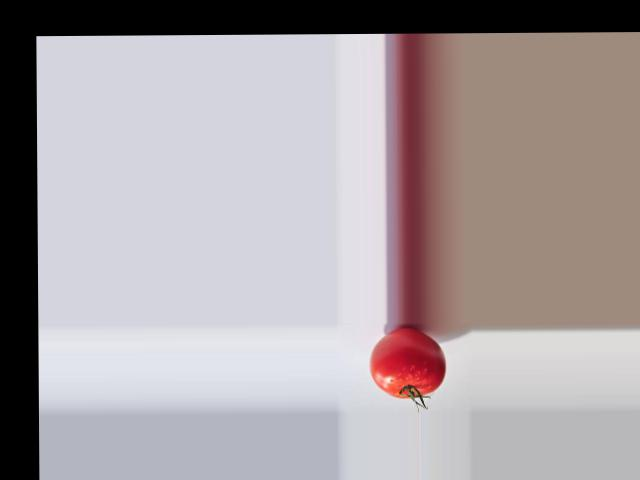tomato: (369, 326, 445, 397)
